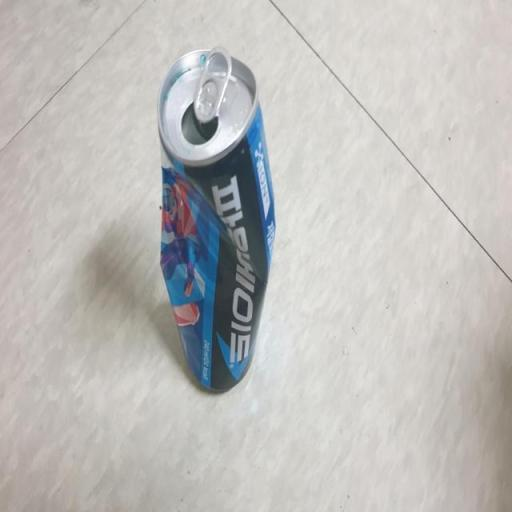metal: (142, 33, 291, 410)
